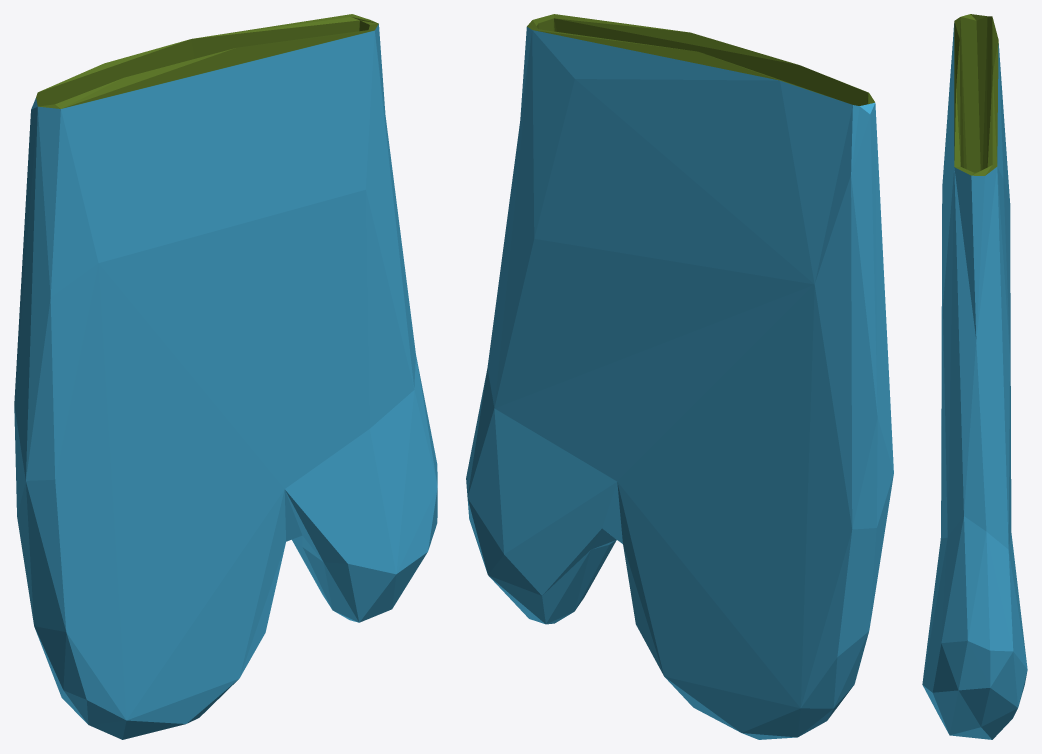
The model's file is PotholderGlove.fbx.
3 views of the same model, side by side, from view 1: azimuth 30°, elevation 25°; view 2: azimuth 150°, elevation 25°; view 3: azimuth 270°, elevation 25° (orthographic). The views are drawn at different scales.
Visible parts, largest first — view 1: PotholderGloveLowPoly; view 2: PotholderGloveLowPoly; view 3: PotholderGloveLowPoly.
Boxes of the visible parts, x1,y1,x2,y2 form: PotholderGloveLowPoly: [14, 14, 437, 739]; PotholderGloveLowPoly: [466, 14, 893, 739]; PotholderGloveLowPoly: [922, 14, 1027, 739].
Size of the model in its own units: 11.18 by 17.49 by 2.55.
